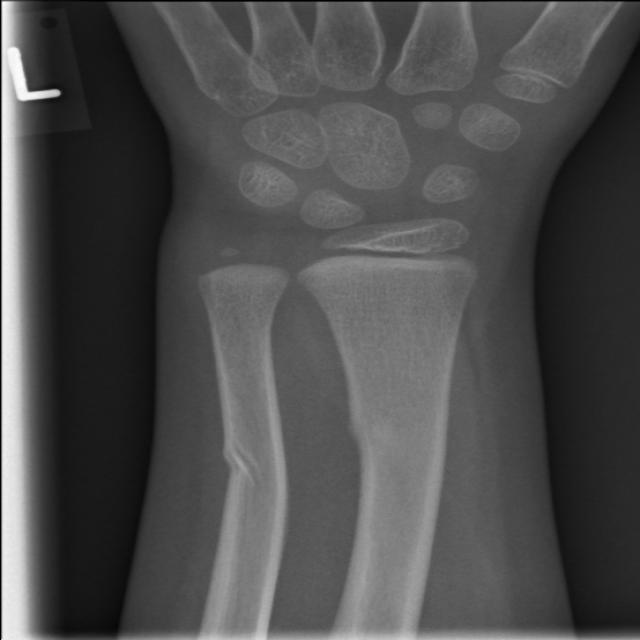radius fracture: (325, 365, 473, 519)
ulna fracture: (212, 389, 304, 550)
